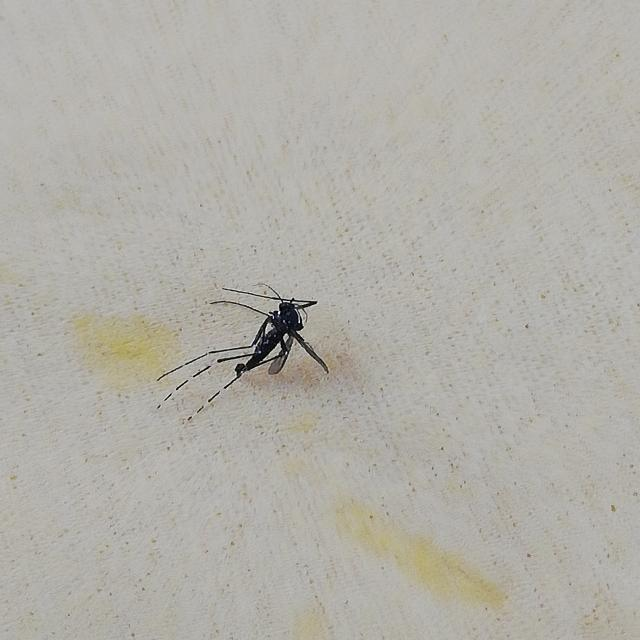albopictus: (156, 276, 332, 421)
